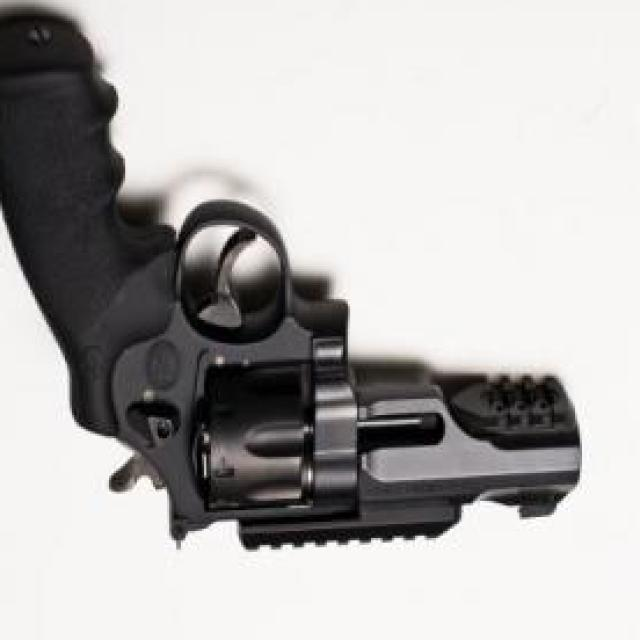pistol: (0, 7, 585, 559)
